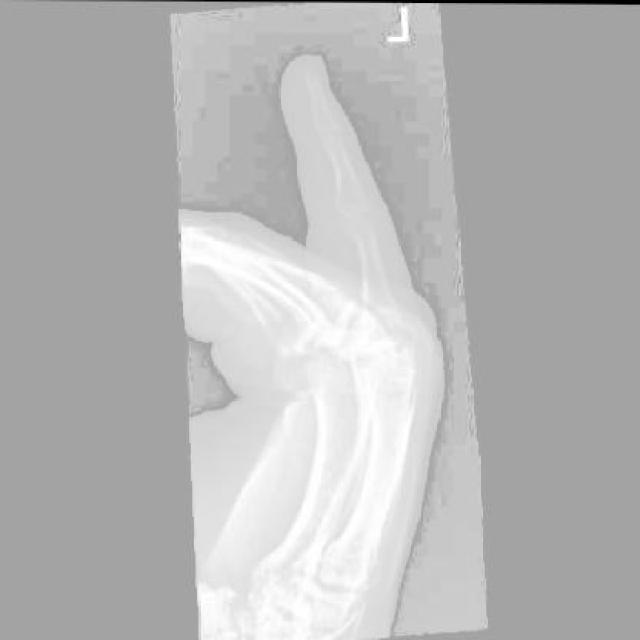Fracture: (335, 203, 351, 226)
